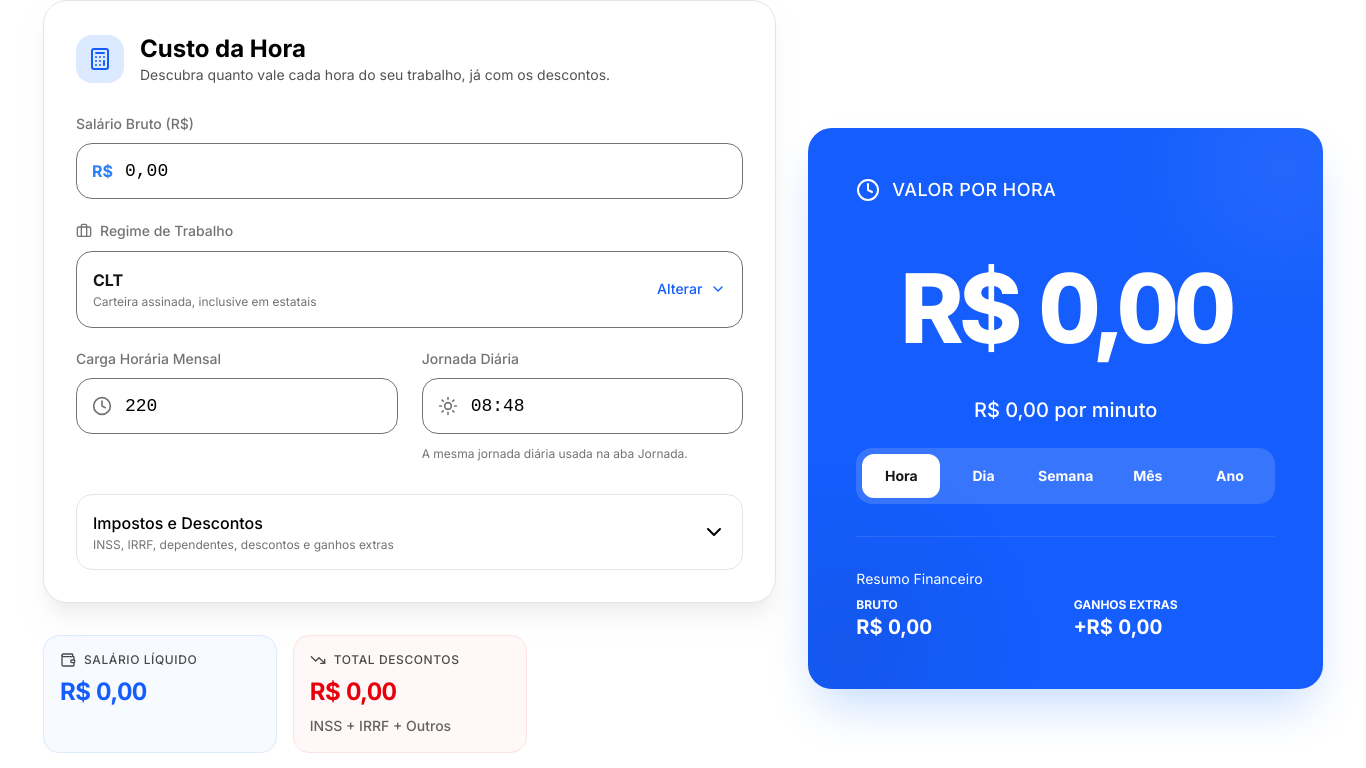
Test: SalaryCalculator › switches the headline value between periods
Expected: the text "Valor por Hora" is shown, [892,176,1056,204]
Step 1. Click the radio button labelled "Mês" → (1148, 476), box [1133,467,1162,484]
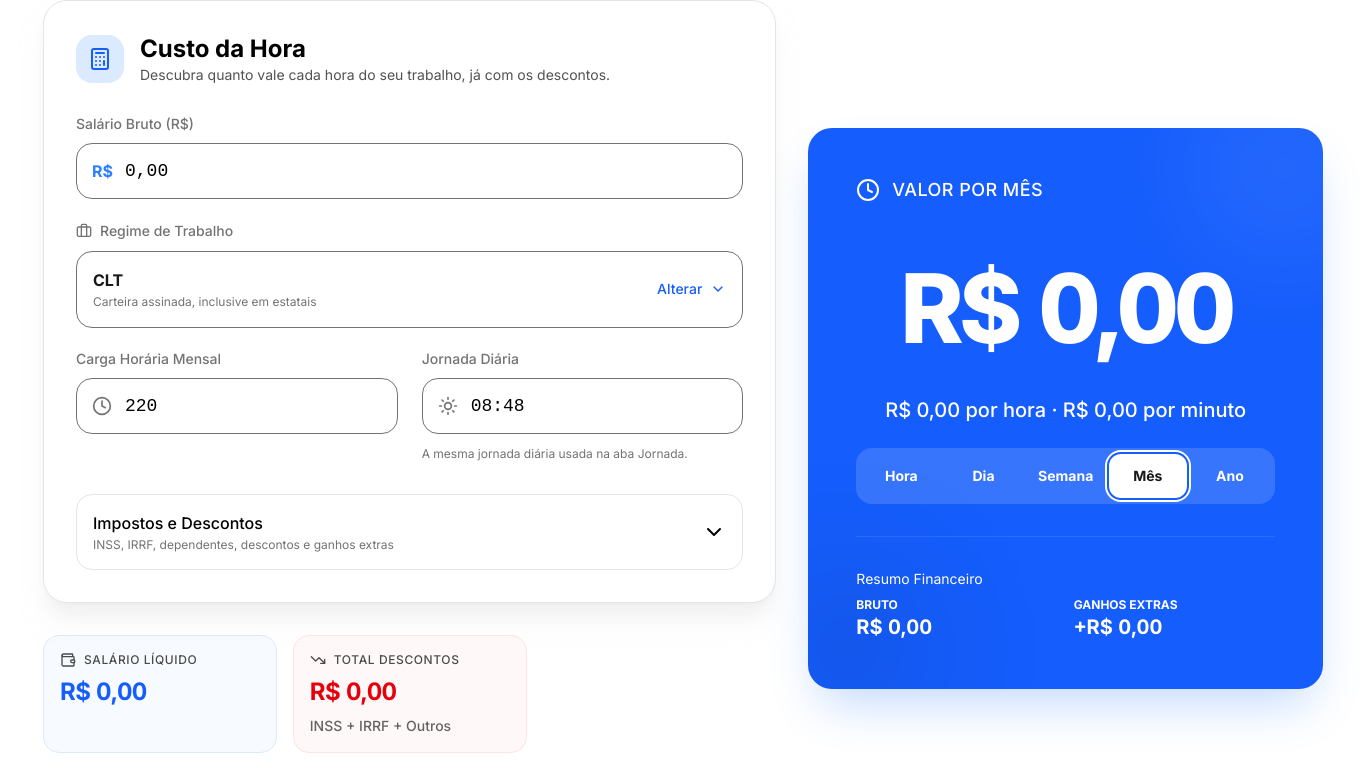
Expected: the text "Valor por Mês" is shown, [892,176,1043,204]
Step 2. Click the radio button labelled "Ano" → (1230, 476), box [1216,467,1244,484]
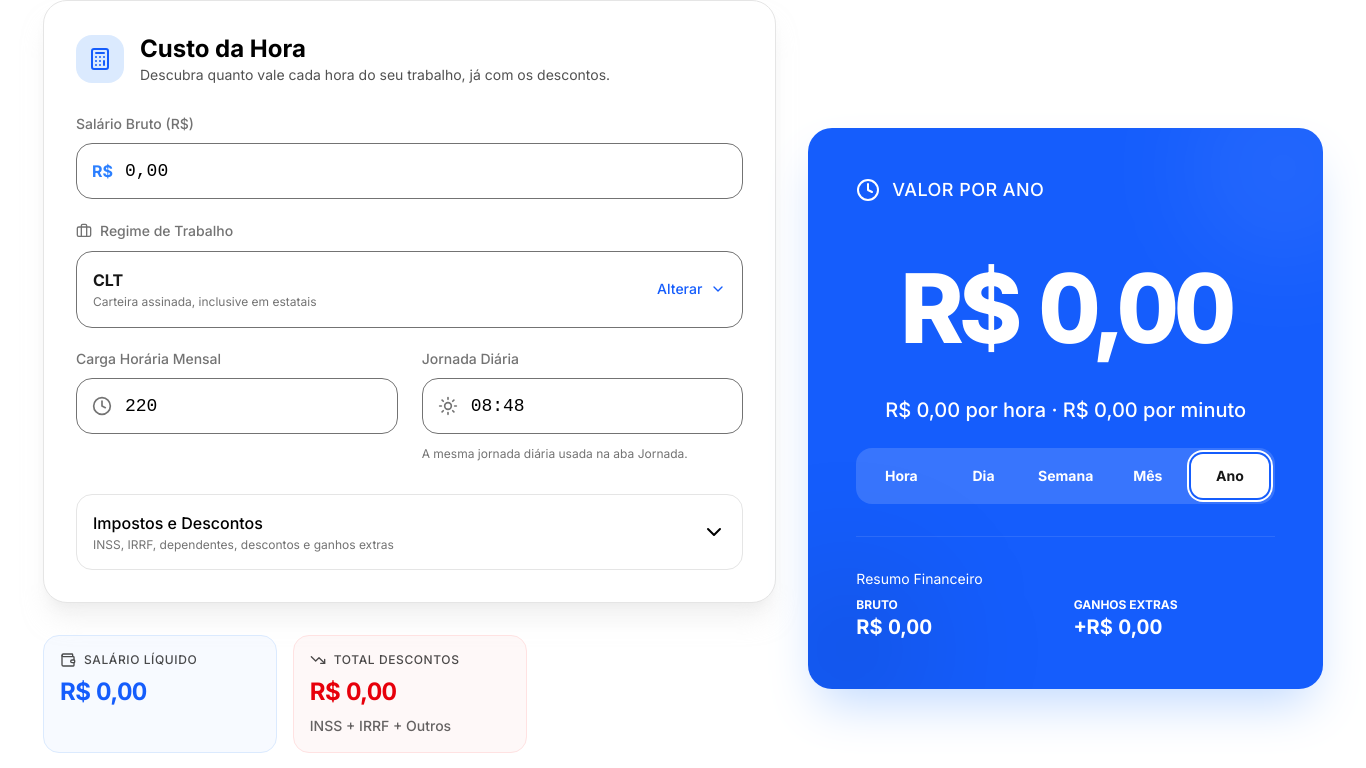
Expected: the text "Valor por Ano" is shown, [892,176,1044,204]
